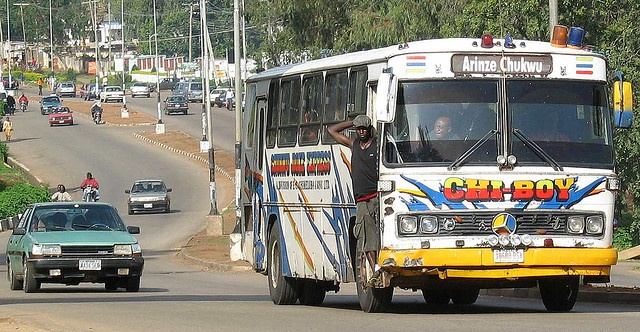non-vehicle: (81, 184, 99, 202), (50, 195, 72, 202), (93, 107, 101, 124), (19, 101, 28, 111)
